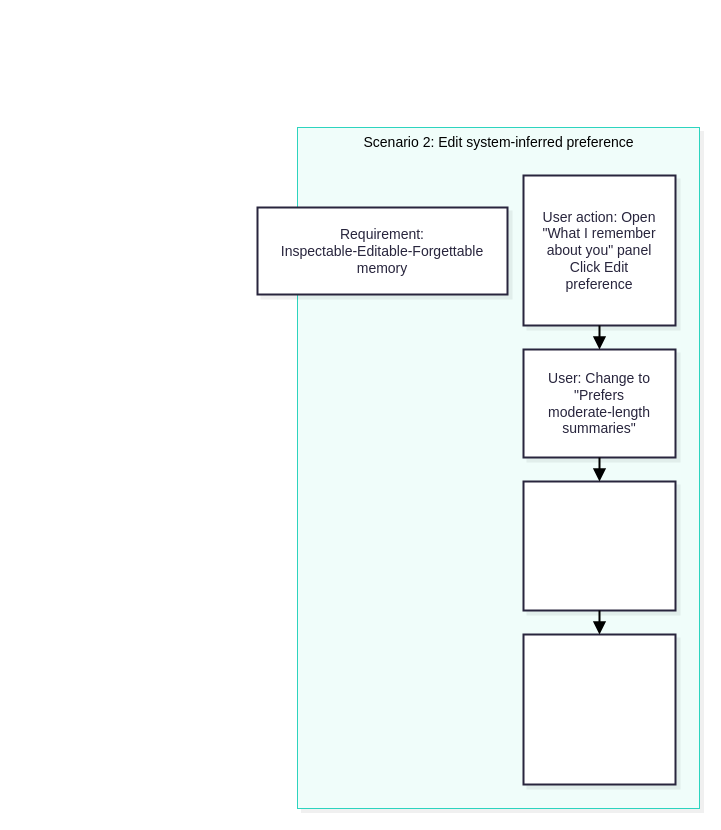
The diagram is 721 pixels wide and 830 high, and some of its shapes have lost their labels. Each missing label, with the centre of its shape:
"Feedback: Confirmation message New preference applied for future tasks" belongs at pixel 601 711.
"System: Update semantic memory store Add updated timestamp" belongs at pixel 601 547.
